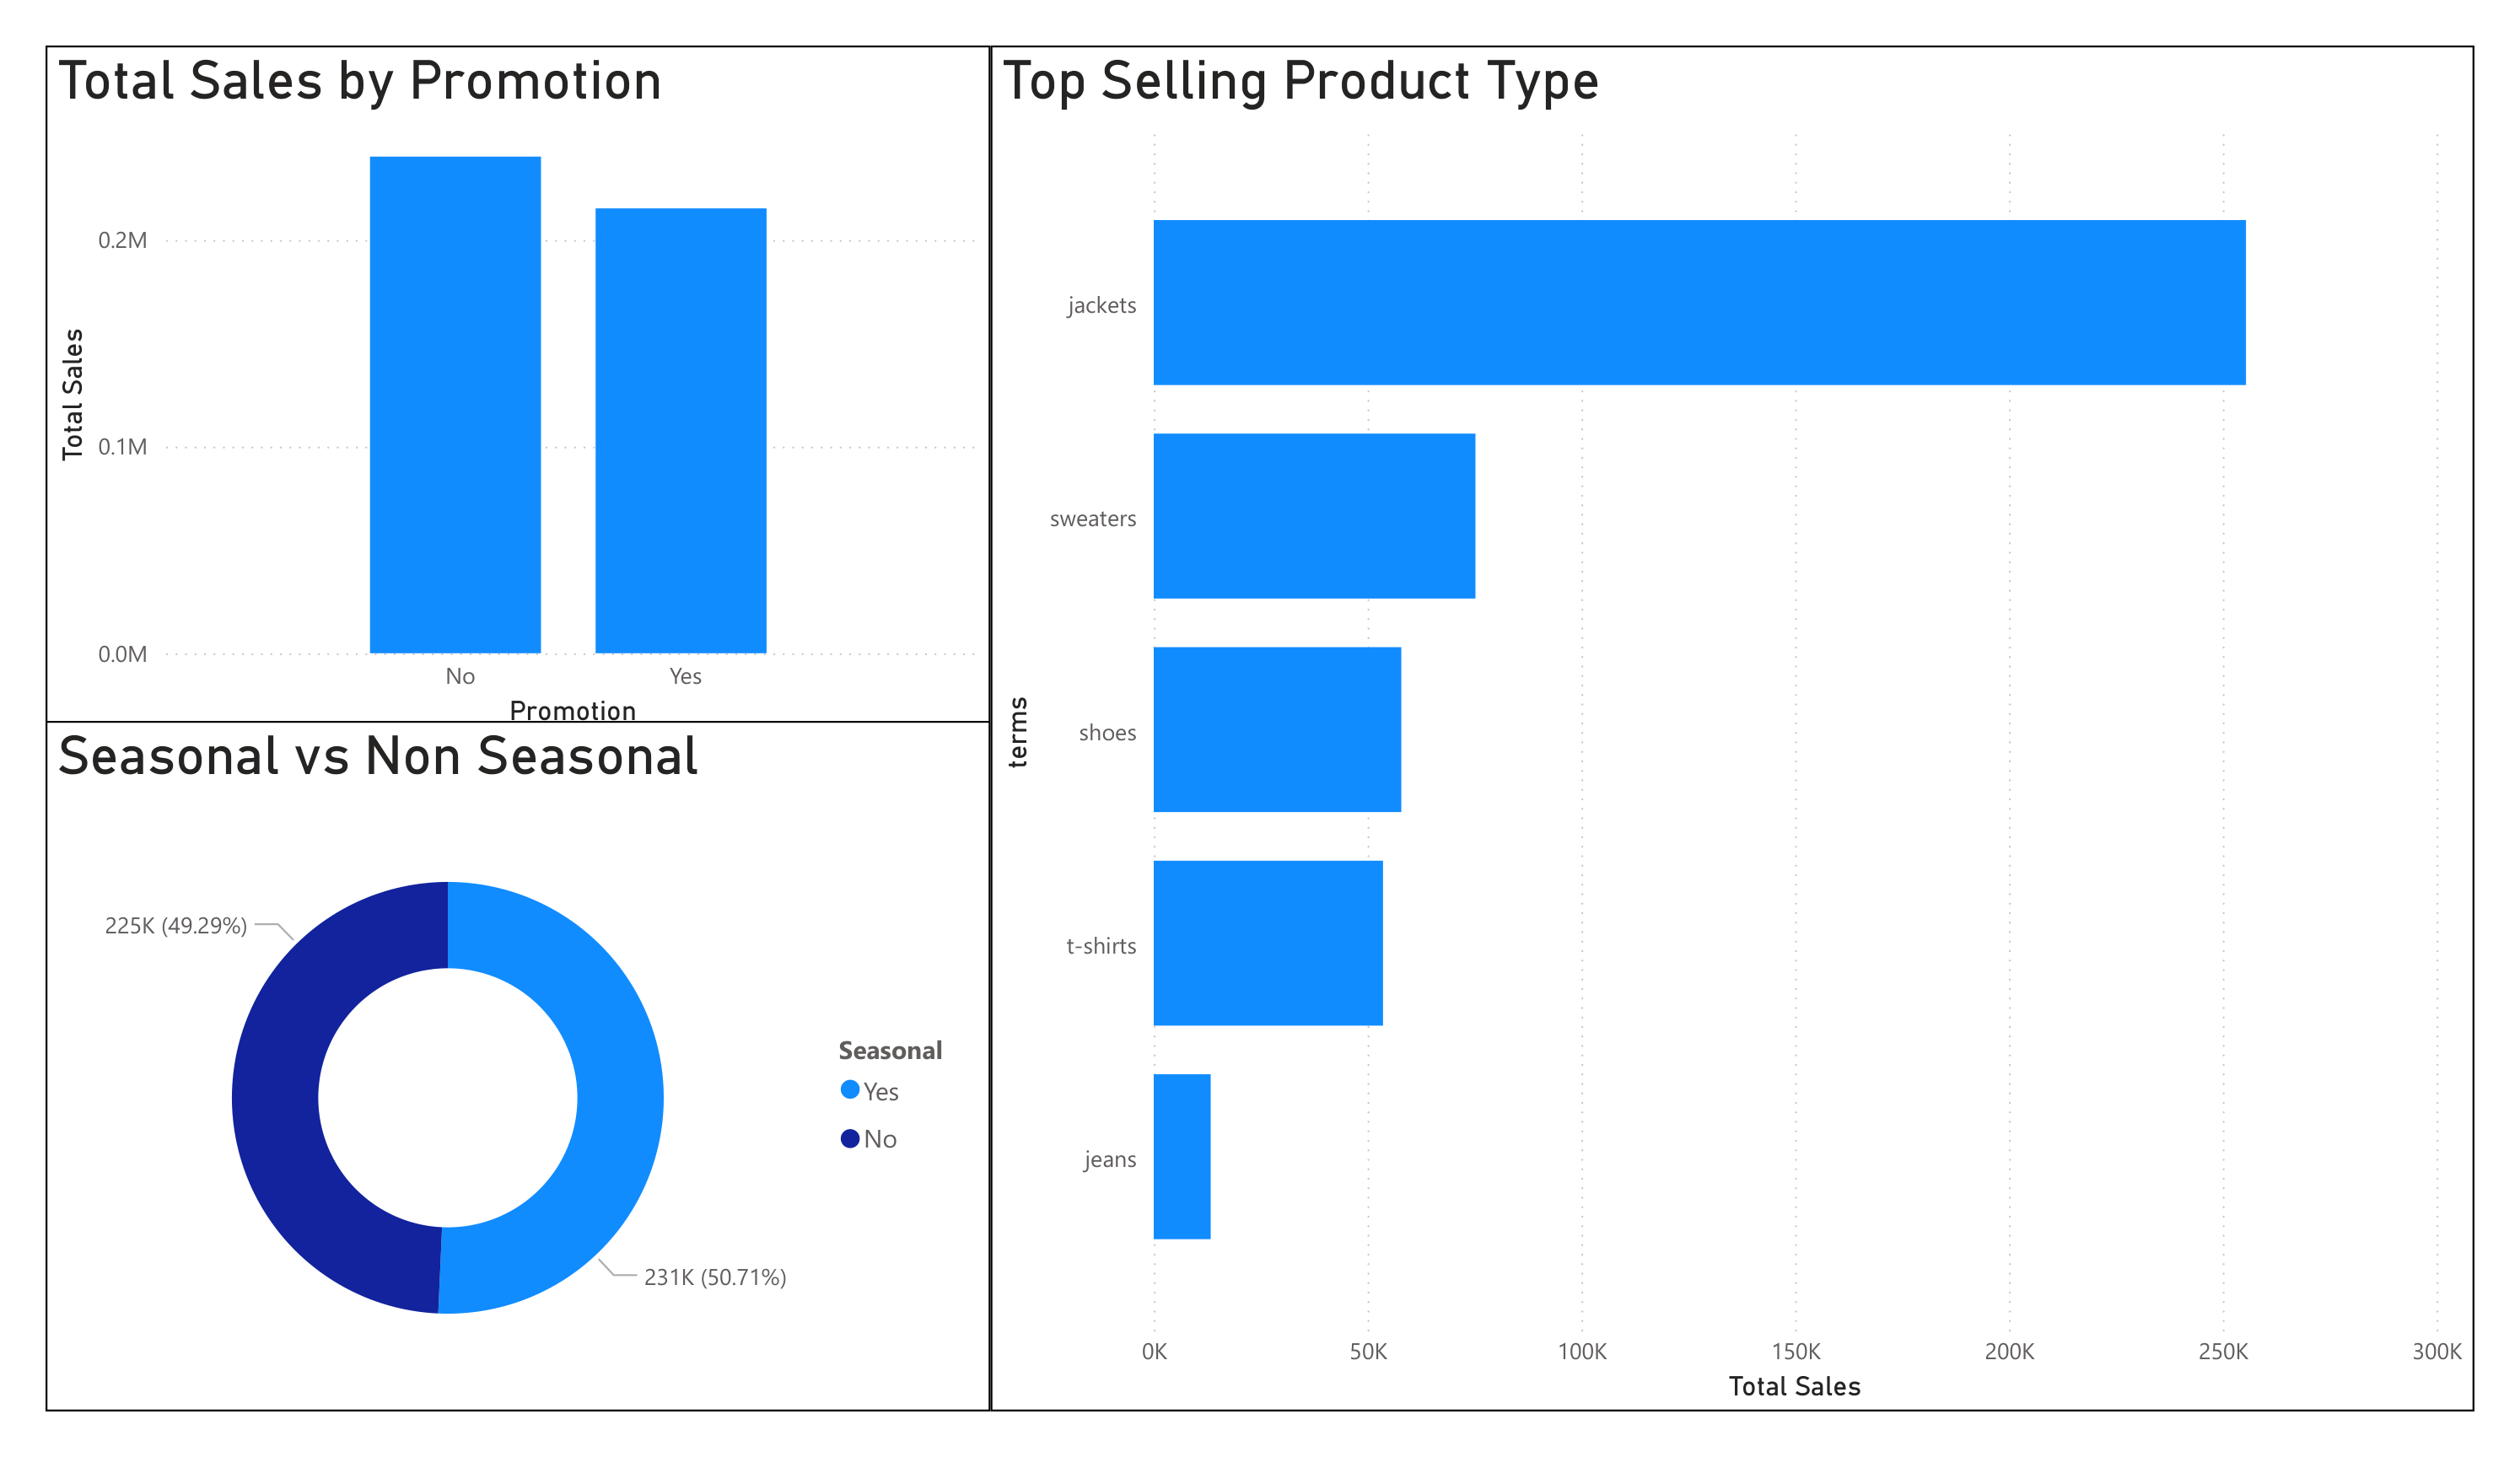

What the dashboard file says about the page in this screenshot:
{"tool":"powerbi","page":{"name":"Page 2","canvas":[1280,720],"ordinal":1},"visuals":[{"type":"columnChart","fields":{"Category":["zara.Promotion"],"Y":["zara.Total Sales"]},"box":[0,0,498,364],"z":1},{"type":"donutChart","title":"Seasonal vs Non Seasonal","fields":{"Y":["zara.Total Sales"],"Category":["zara.Seasonal"]},"box":[0,356,498,364],"z":2},{"type":"barChart","title":"Top Selling Product Type","fields":{"Category":["zara.terms"],"Y":["zara.Total Sales"]},"box":[498,0,782,720],"z":3}]}

Visuals, with their boxes in screenshot pixels (x1, y1, x2, y2), scaled from the page's 1280x720 canvas onto the 2520x1457 screenshot:
columnChart - zara.Promotion x zara.Total Sales: [0,0,981,737]
"Seasonal vs Non Seasonal" donutChart: [0,720,981,1456]
"Top Selling Product Type" barChart: [981,0,2519,1456]
